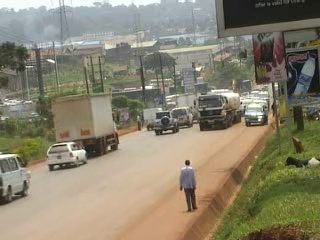Car: (44, 138, 89, 171), (152, 110, 180, 138)
